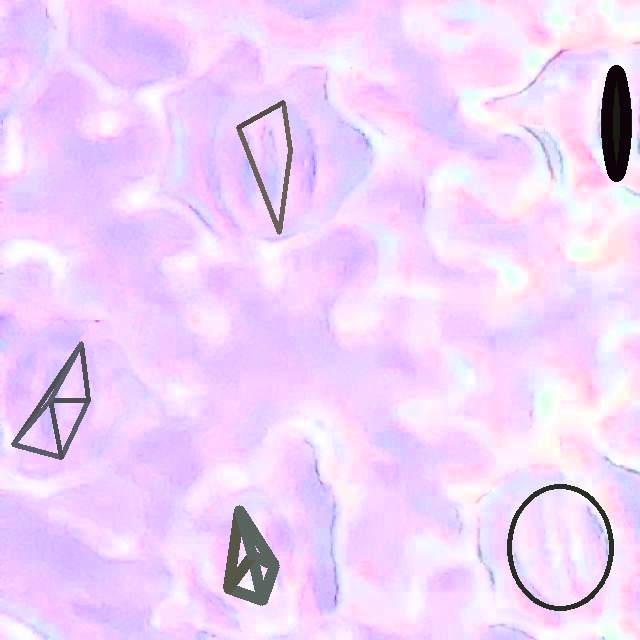close: (224, 506, 279, 604)
open: (506, 483, 614, 611), (11, 341, 90, 459), (236, 100, 292, 233), (600, 64, 631, 181)
